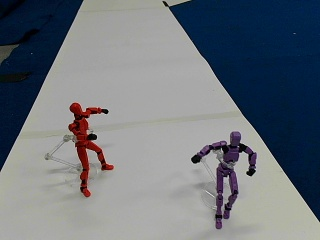pedestrian: (190, 131, 256, 224), (68, 100, 113, 194)
